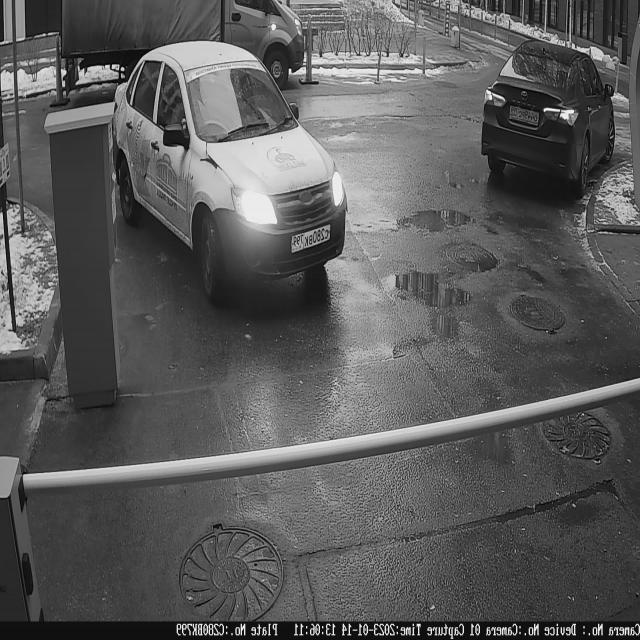car-plate-numbers: (290, 221, 333, 257)
